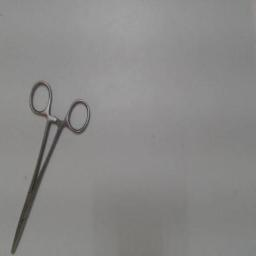Mayo Needle Holder: (8, 76, 94, 254)
